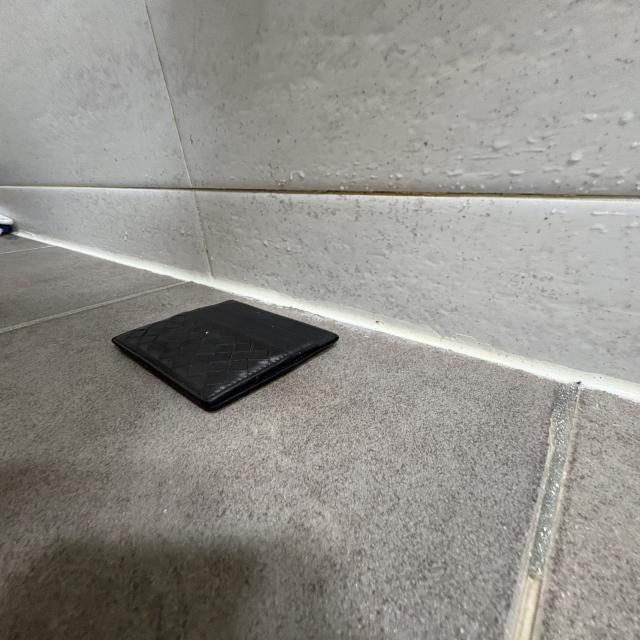wallet: (108, 302, 344, 414)
